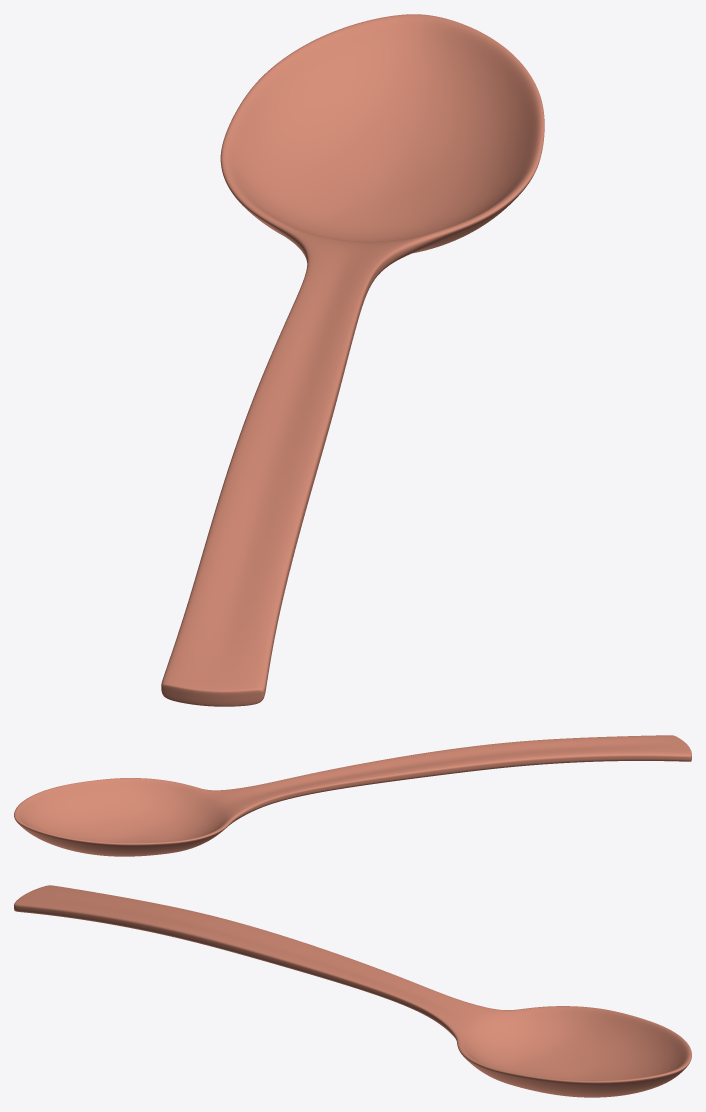
The model's file is spoon.fbx.
3 views of the same model, one above another, from view 1: azimuth 30°, elevation 25°; view 2: azimuth 150°, elevation 25°; view 3: azimuth 270°, elevation 25° (orthographic). The views are drawn at different scales.
Visible parts, largest first — view 1: Spoon; view 2: Spoon; view 3: Spoon.
Part boxes in pixels (<box>): Spoon: <box>161,14,544,706</box>; Spoon: <box>14,735,691,856</box>; Spoon: <box>14,885,691,1097</box>.
Bounding box in the file's own units: 89.8 × 9.24 × 109.
